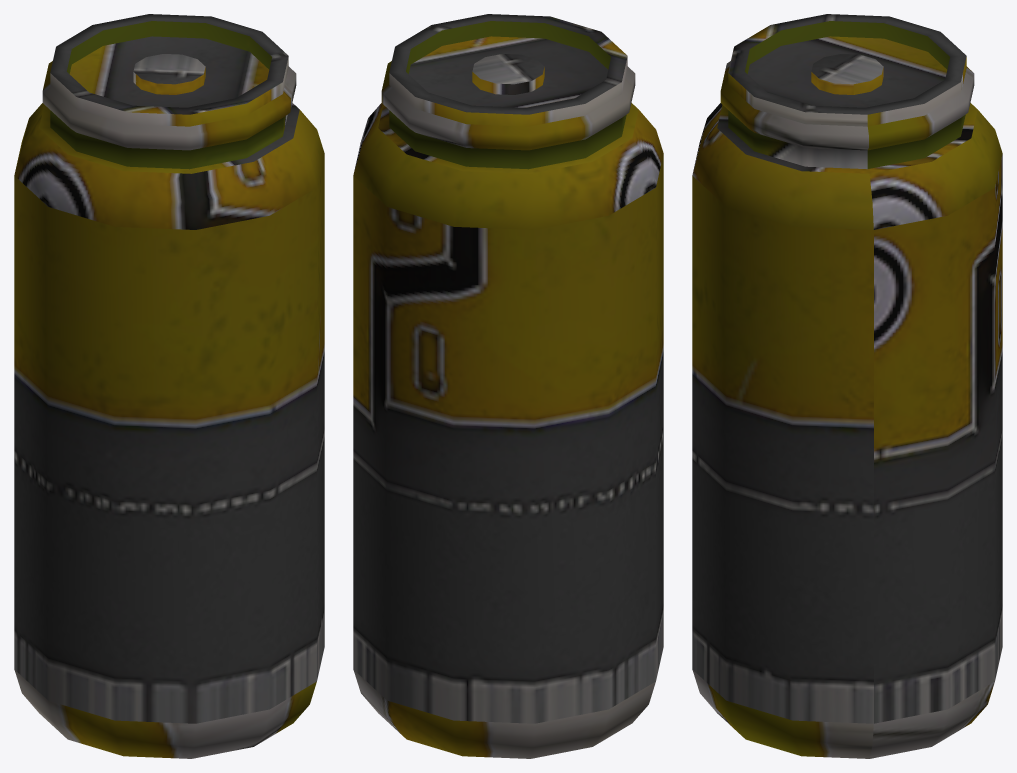
File: canister_1.obj
3 views of the same model, side by side, from view 1: azimuth 30°, elevation 25°; view 2: azimuth 150°, elevation 25°; view 3: azimuth 270°, elevation 25° (orthographic).
Parts seen in each view (by area): view 1: polySurface307_0; view 2: polySurface307_0; view 3: polySurface307_0.
Part boxes in pixels (x1,y1,x2,y2): polySurface307_0: [14, 14, 324, 758]; polySurface307_0: [353, 14, 663, 758]; polySurface307_0: [692, 14, 1002, 758].
Bounding box in the file's own units: 20.31 × 46.18 × 20.31.
